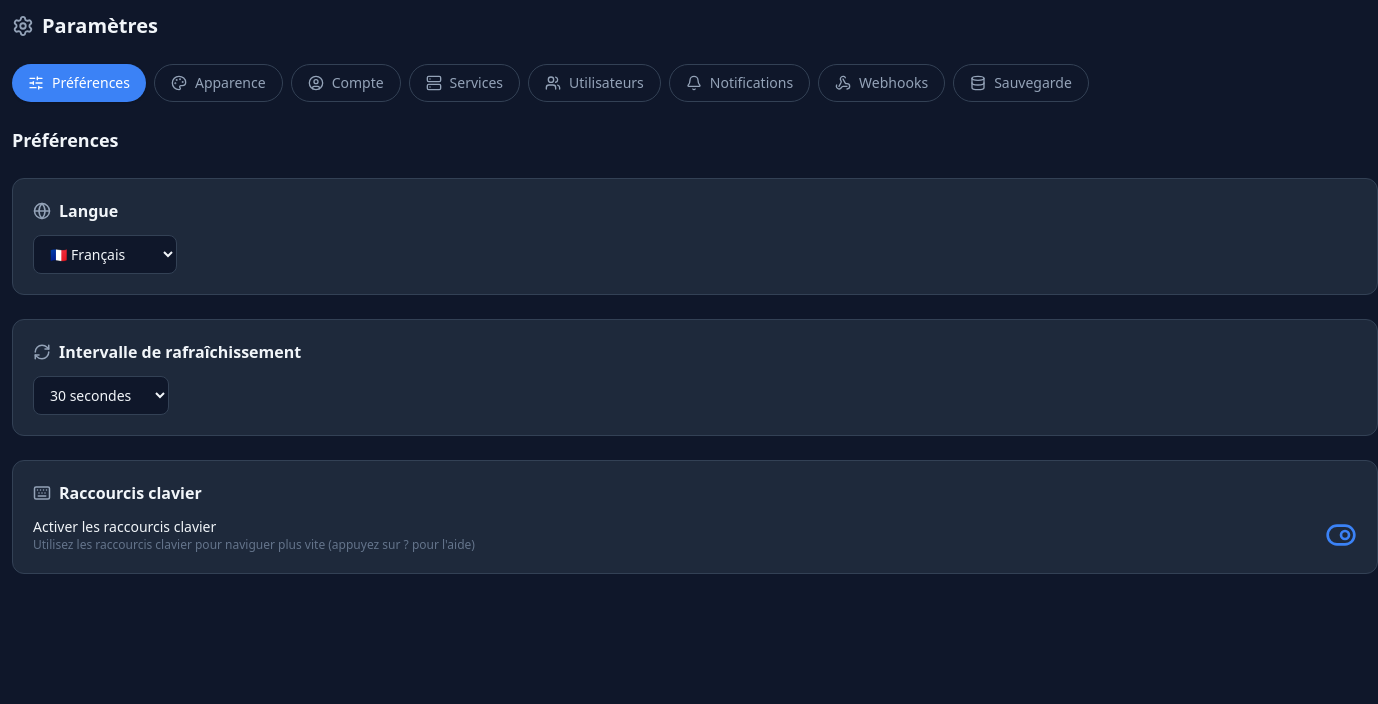
SettingsPage › has theme section in appearance tab
This screenshot has width=1378, height=704.
Click the button with test id "settings-pill-appearance" at [218, 83], box [154, 64, 283, 102]
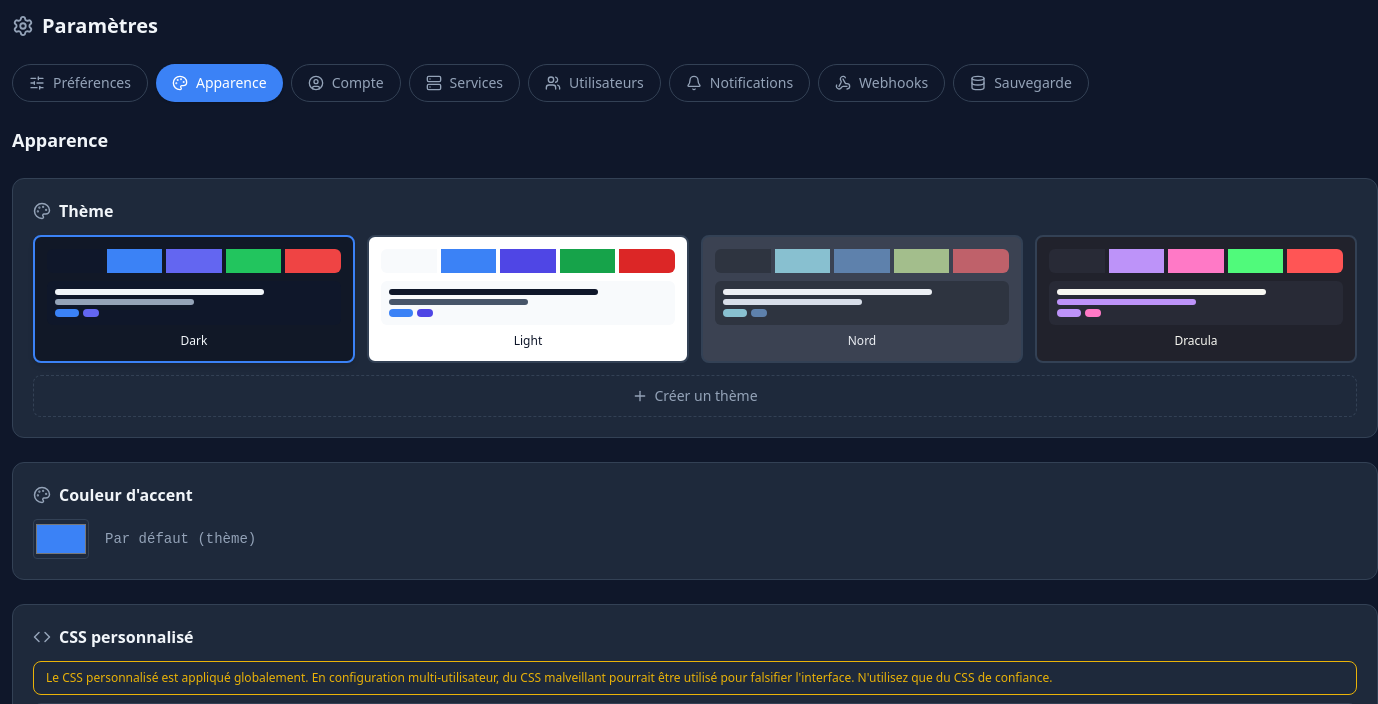
Result: the element with test id "settings-theme" is shown at [12, 178, 1377, 438]
Result: the element with test id "settings-theme-select" is shown at [33, 235, 1357, 363]
